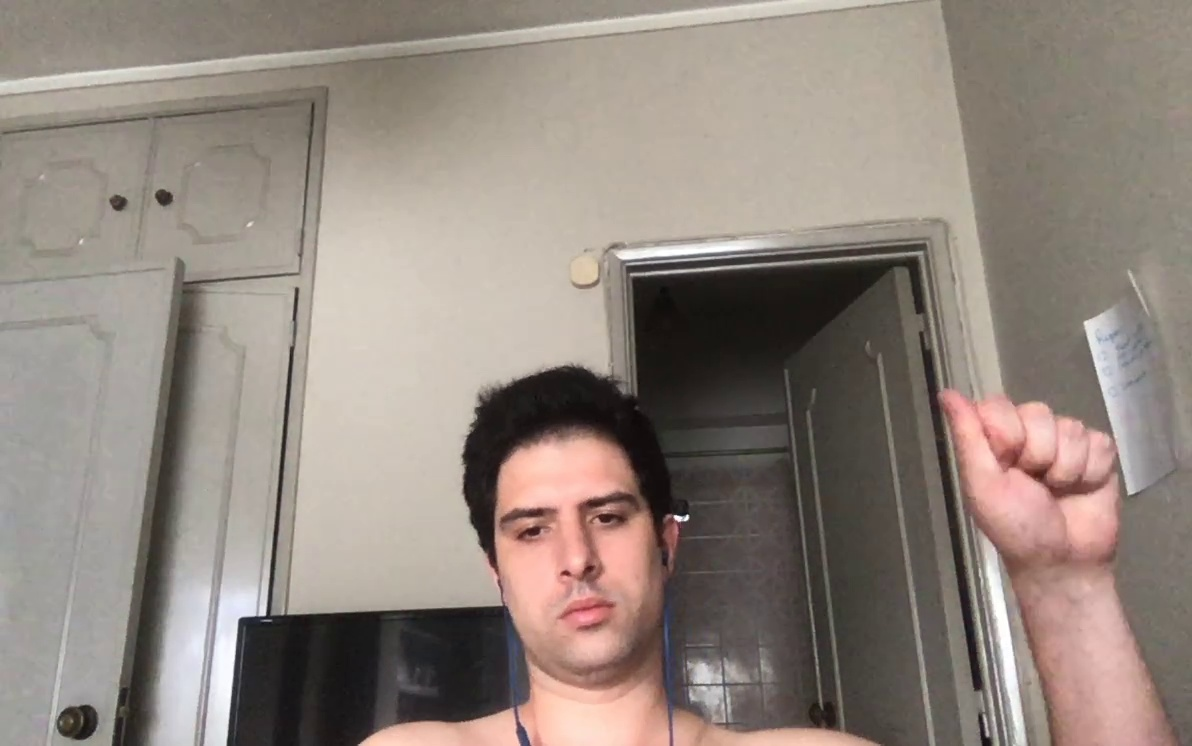a: (922, 375, 1151, 576)
